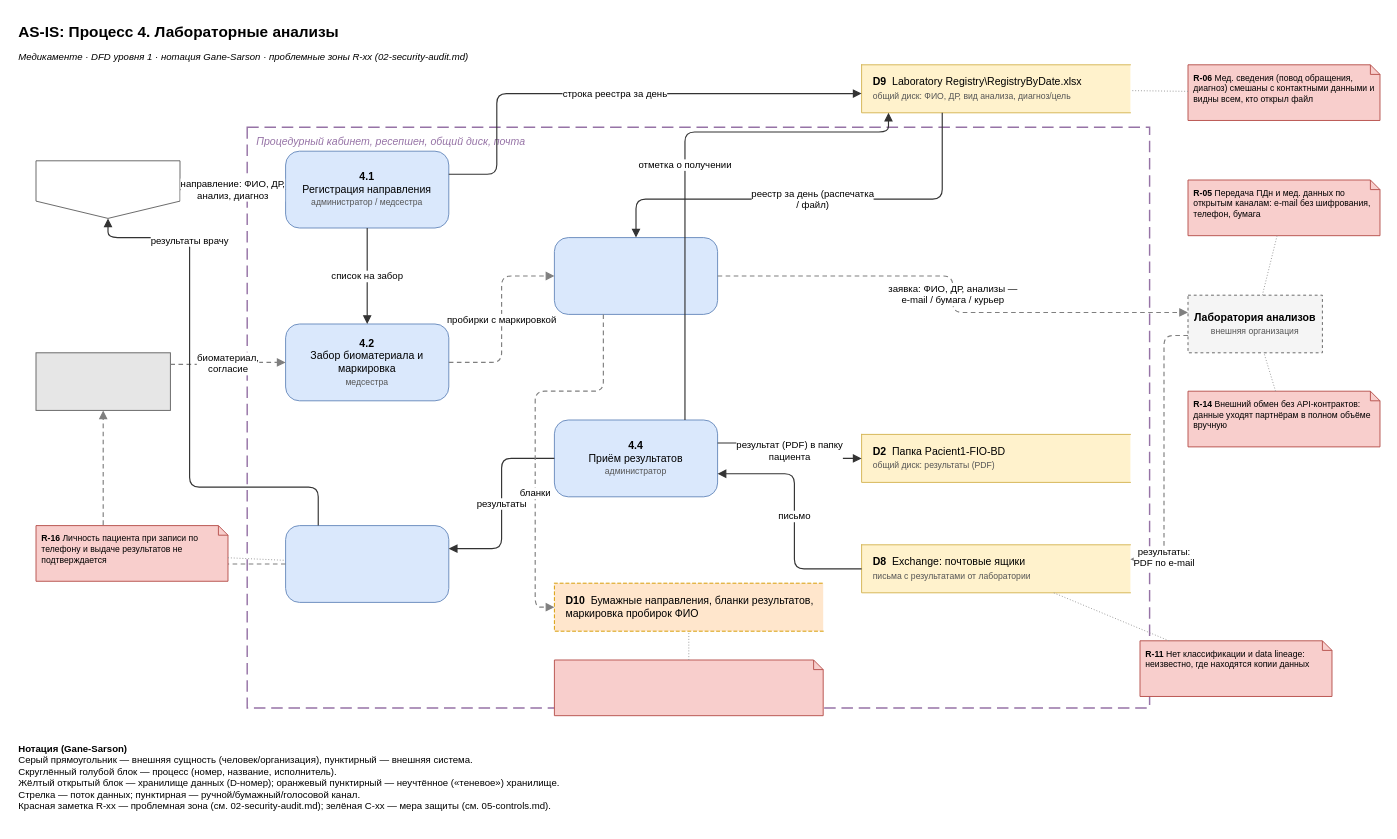
Image size: 1397x839. Some labels were removed from this diagram. The centre of each missing label's shape, as x and y in pixels:
"4.3 Передача заявки и биоматериала в лабораторию медсестра / курьер" goes at point 635,275.
"4.5 Выдача результатов пациенту и врачу администратор" goes at point 367,563.
"R-04 Бумажные носители с ПДн и мед. данными хранятся и уничтожаются без учёта" goes at point 688,687.
"Пациент" goes at point 102,381.
"← Процесс 3: врач" goes at point 107,189.
